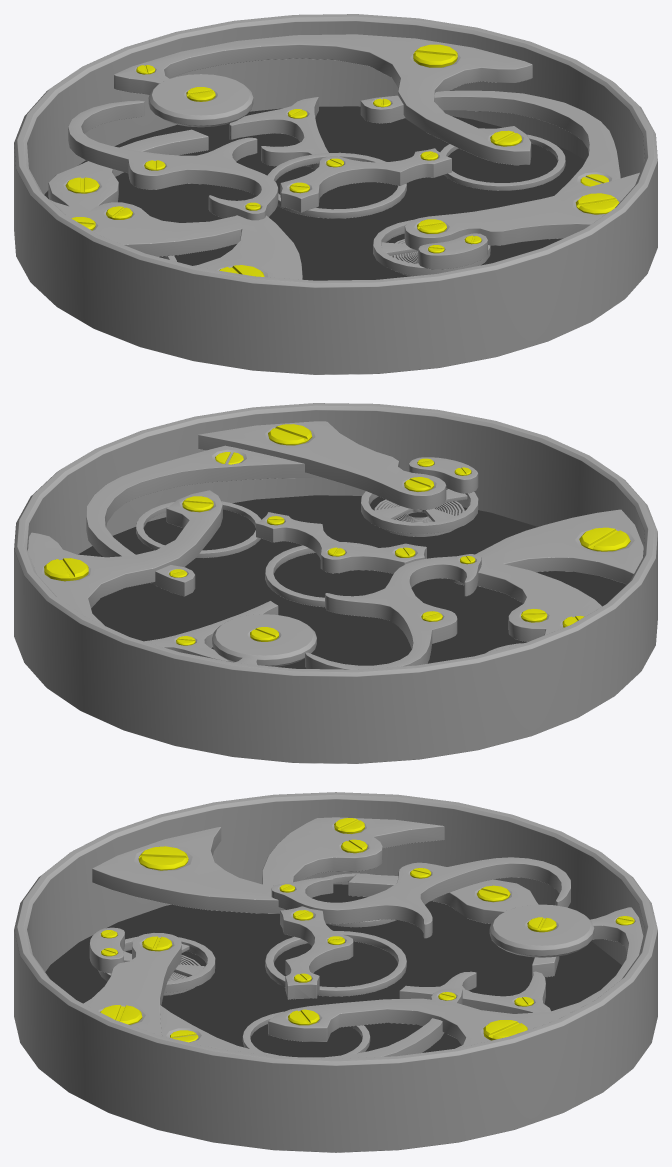
The model's file is ClockworkHousing.fbx.
3 views of the same model, one above another, from view 1: azimuth 30°, elevation 25°; view 2: azimuth 150°, elevation 25°; view 3: azimuth 270°, elevation 25° (orthographic).
Parts seen in each view (by area): view 1: pCube59; view 2: pCube59; view 3: pCube59.
Boxes of the visible parts, x1,y1,x2,y2 form: pCube59: (14,14,657,374); pCube59: (14,403,657,763); pCube59: (14,792,657,1152).
Size of the model in its own units: 24.6 by 3.81 by 24.6.
